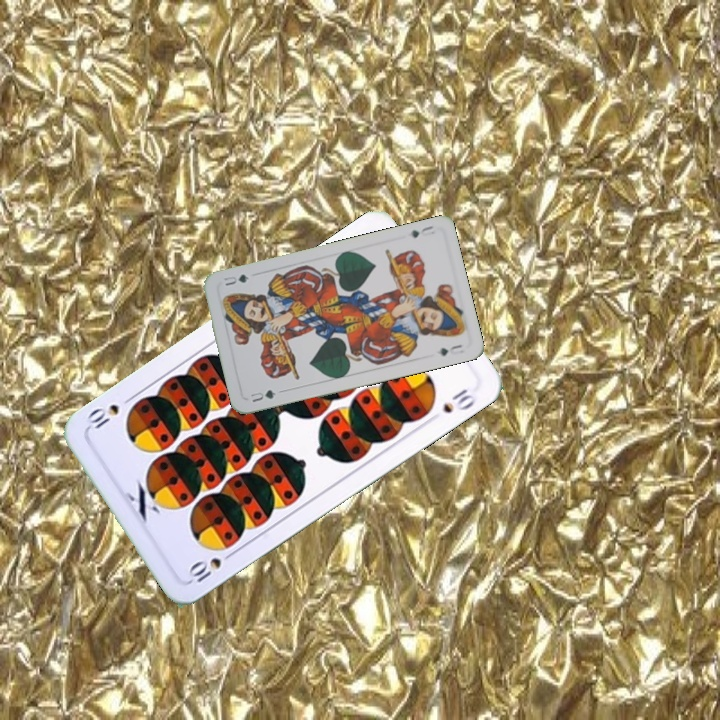GU: (245, 385, 279, 405), (408, 221, 439, 240)
S10: (184, 547, 238, 585)
